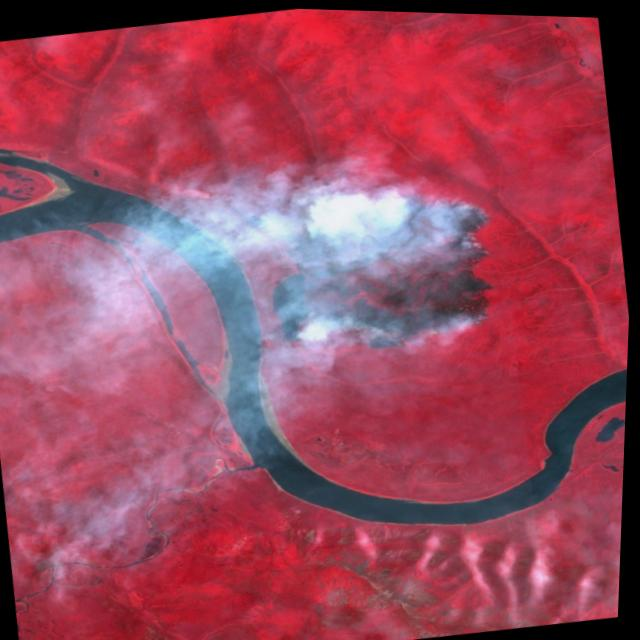fire: (276, 163, 521, 368)
